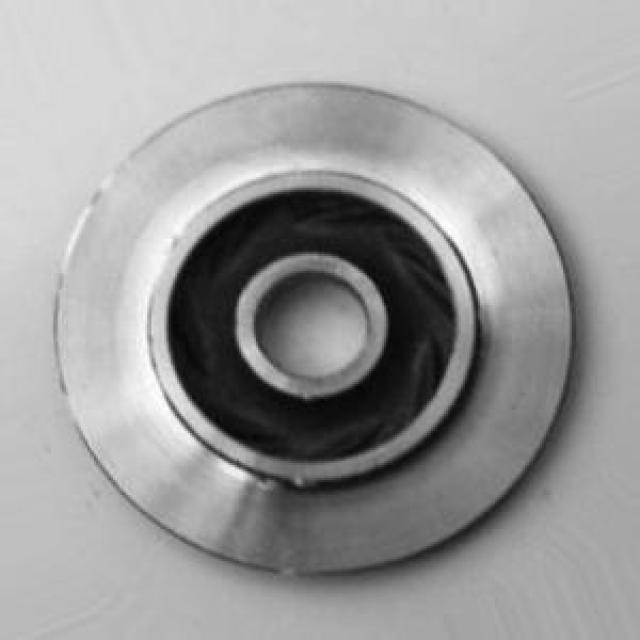Defect: (254, 460, 320, 502)
